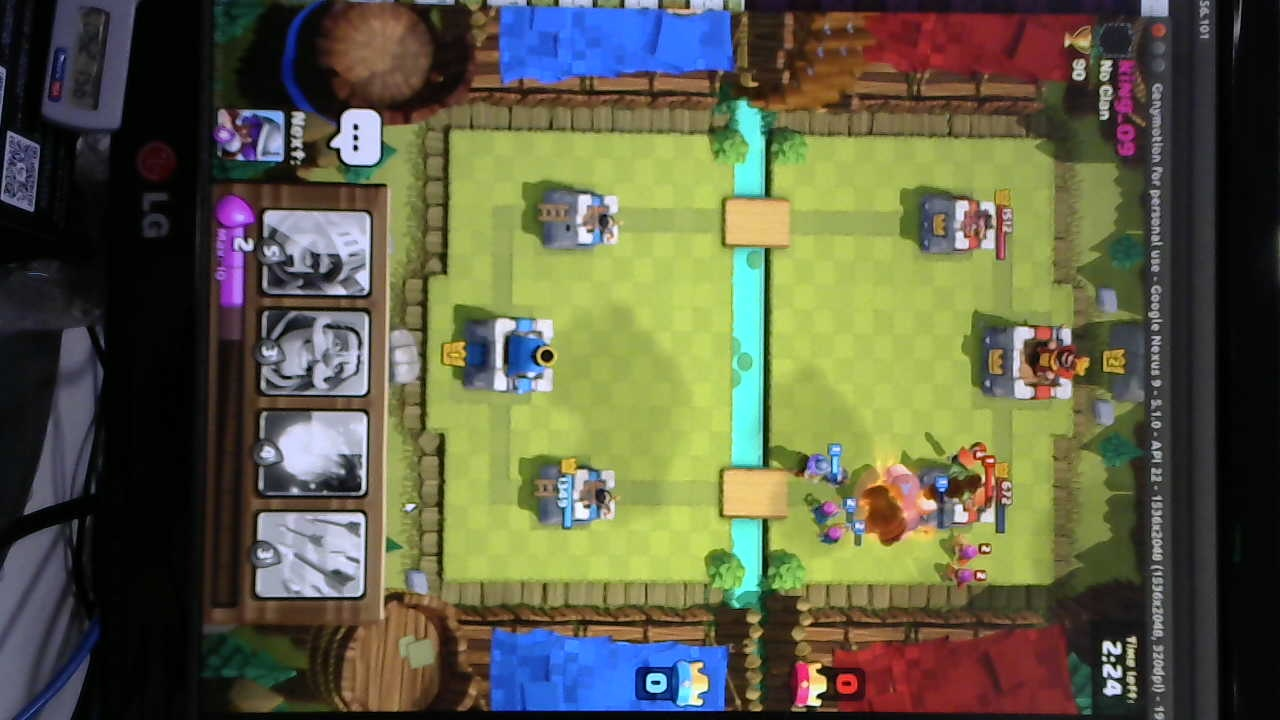archers: (809, 495, 853, 554), (944, 534, 985, 594)
arena: (541, 188, 626, 250), (537, 464, 620, 527)
bomb: (821, 461, 853, 491)
dragon: (945, 452, 984, 512)
earena: (913, 196, 997, 253), (935, 472, 999, 527)
eking: (976, 320, 1078, 405)
giant: (880, 460, 936, 546)
king: (464, 314, 563, 398)
musketeer: (794, 446, 835, 487)
